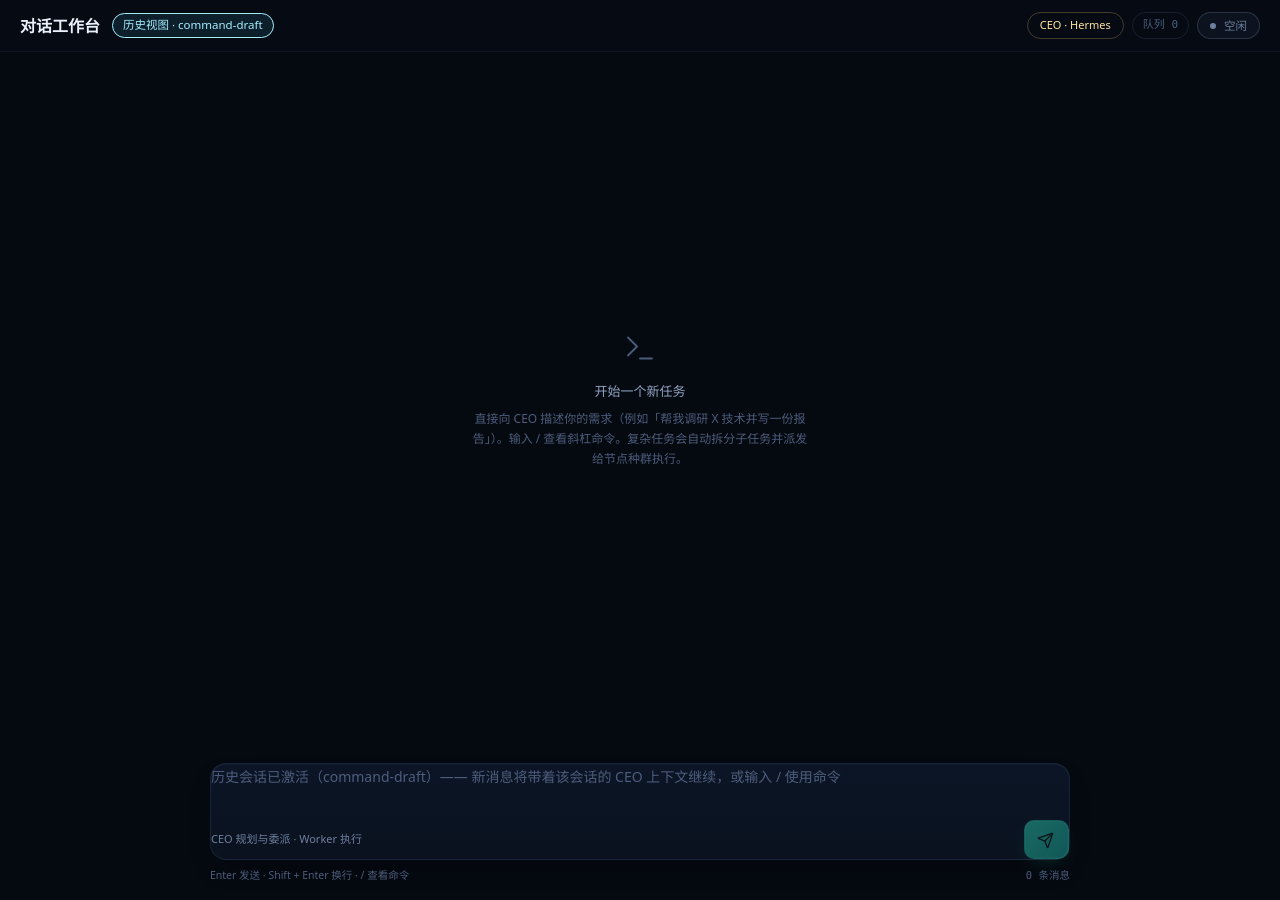
Test: 选择命令后保留会话草稿，Escape 关闭队列
The width and height of the screenshot is (1280, 900).
Type "/sta" into the text box named "消息内容" at (640, 778), box [211, 764, 1069, 792]
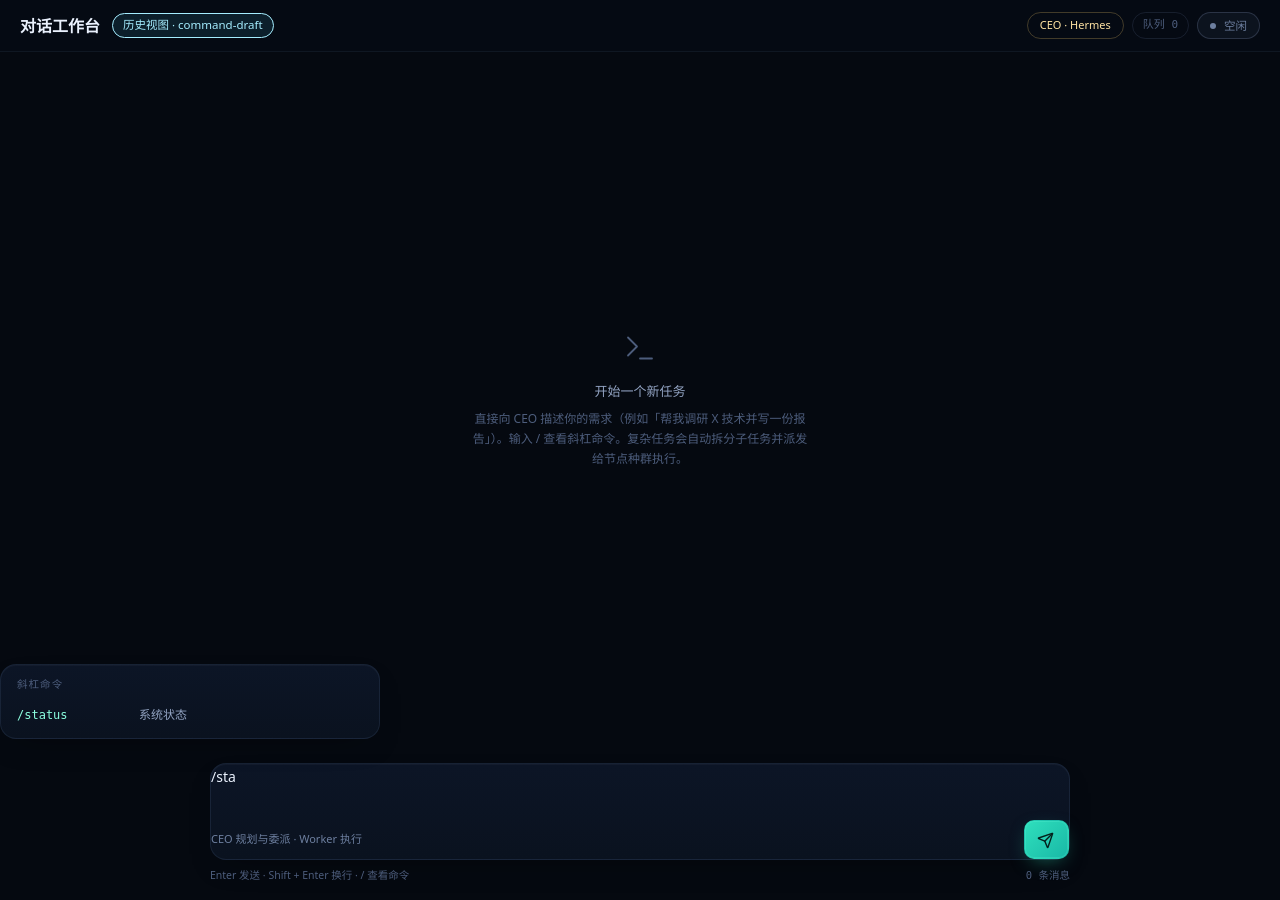
Click the button "/status 系统状态" at (190, 715), box [7, 698, 373, 732]
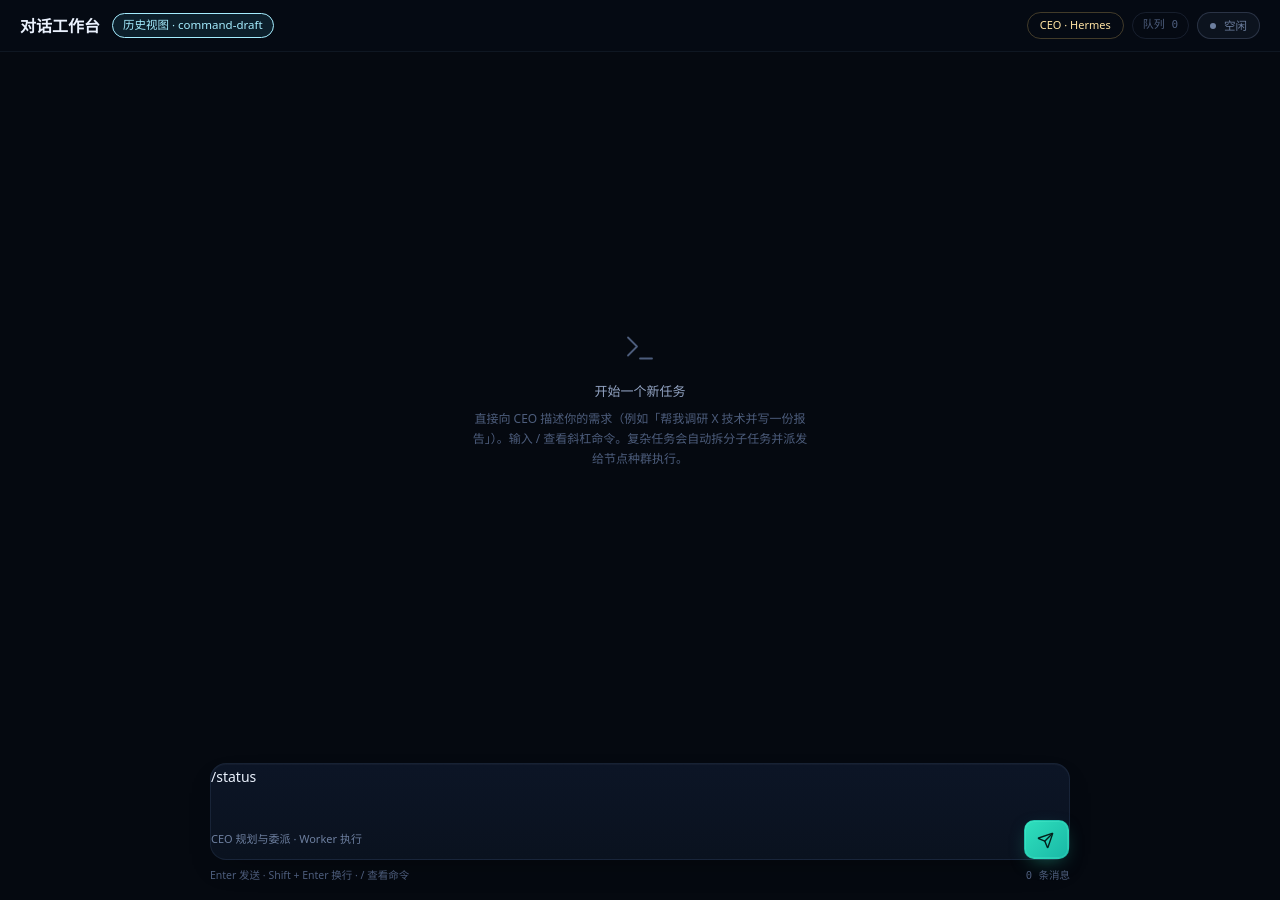
Click the button titled "任务队列（查看 / 编辑 / 撤销排队消息）" at (1160, 26), box [1132, 12, 1189, 39]
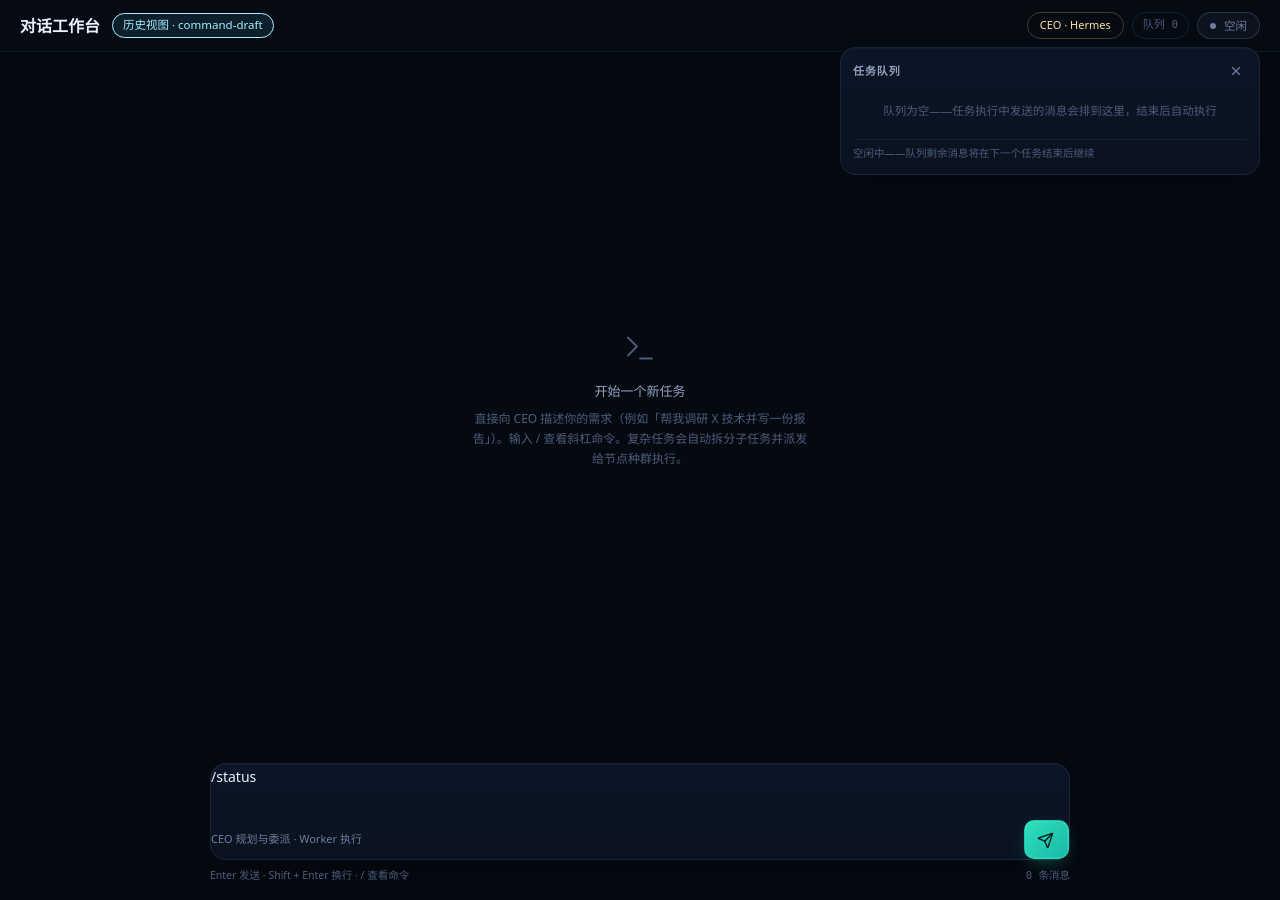
Expected: the text "队列为空——任务执行中发送的消息会排到这里，结束后自动执行" is shown, [883, 103, 1217, 118]
Press Escape
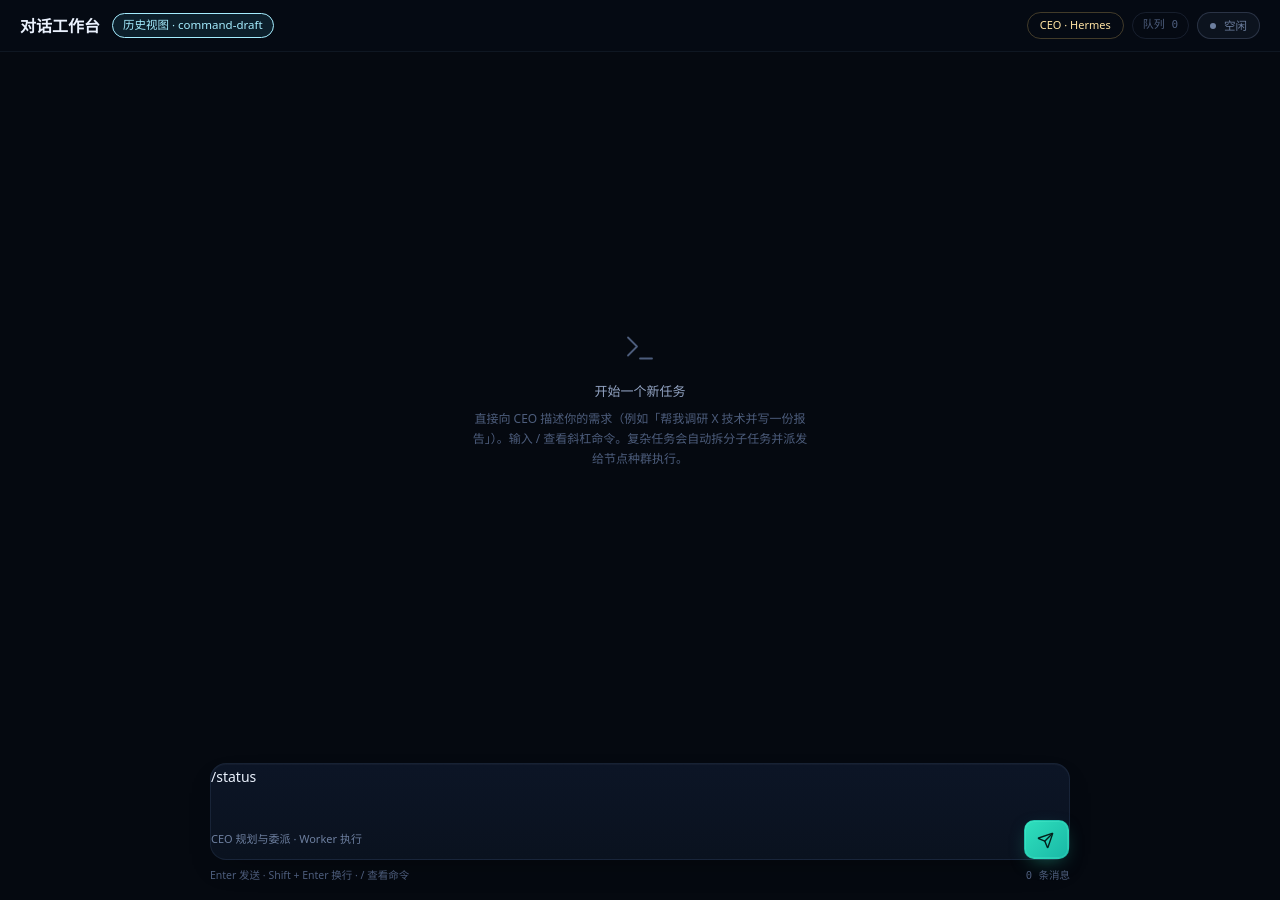
Expected: the text "队列为空" is gone
